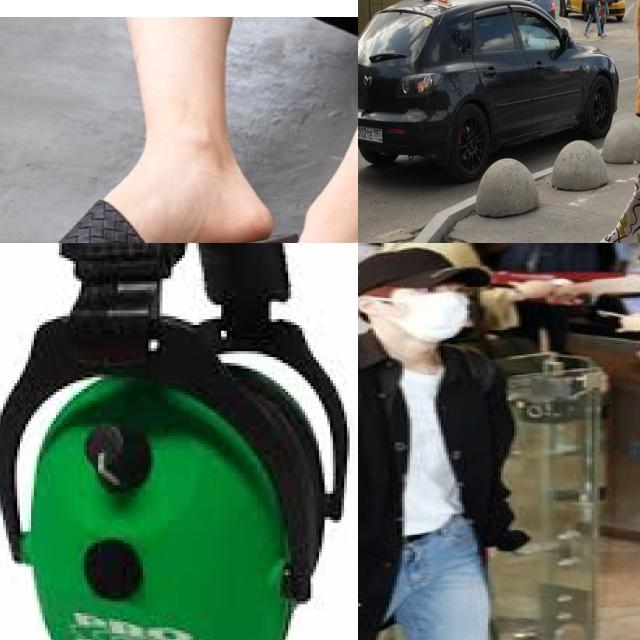Ear-protection: (25, 365, 293, 640)
Sandals: (0, 149, 358, 243)
face_mask: (392, 284, 469, 344)
head_nohelmet: (358, 243, 490, 298)
person: (358, 246, 640, 640)
